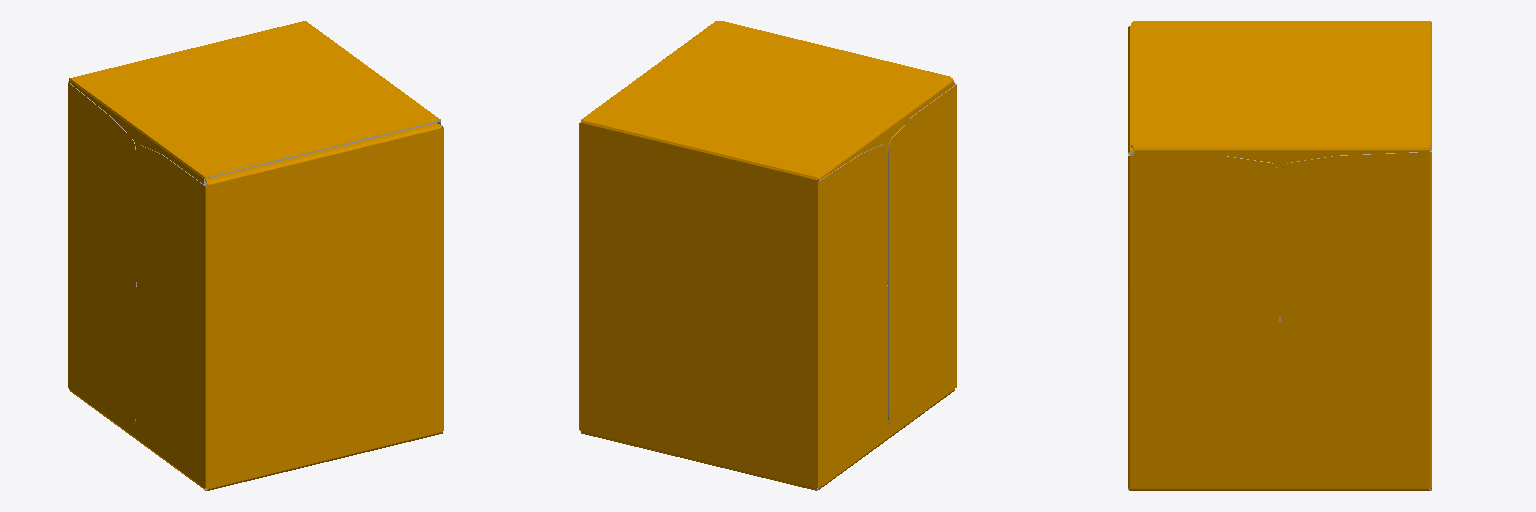
robot.urdf — package:
<?xml version="1.0"?>
<robot name="package">
  <link name="package">
    
    <inertial>
      <mass value="1.0"/>
      <origin xyz="0 0 0" rpy="0 0 0"/>
      <inertia ixx="0.1" ixy="0.0" ixz="0.0" iyy="0.1" iyz="0.0" izz="0.1"/>
    </inertial>

    <visual><origin xyz="0 0 0" rpy="0 0 0"/><geometry><mesh filename="package.dae"/></geometry></visual>
    <collision><origin xyz="0 0 0" rpy="0 0 0"/><geometry><mesh filename="package.dae"/></geometry></collision>

  </link>
</robot>

--- What the picture shows (computed from the rendered views, not written in the file) ---
Views: 3 orthographic renders of the robot side by side, from view 1: azimuth 30°, elevation 25°; view 2: azimuth 150°, elevation 25°; view 3: azimuth 270°, elevation 25°.
Robot: package — 1 links, 0 joints (none); root link package; default pose: all joints at 0.
Links seen in each view (by area): view 1: package; view 2: package; view 3: package.
Link boxes in pixels (bbox=[...]): package: bbox=[68, 21, 443, 490]; package: bbox=[579, 21, 956, 490]; package: bbox=[1128, 21, 1431, 490].
Bounding box of the posed robot: 0.2 × 0.2 × 0.25 m (x, y, z).
1 mesh visuals loaded from 1 distinct referenced files (1 Collada DAE).
